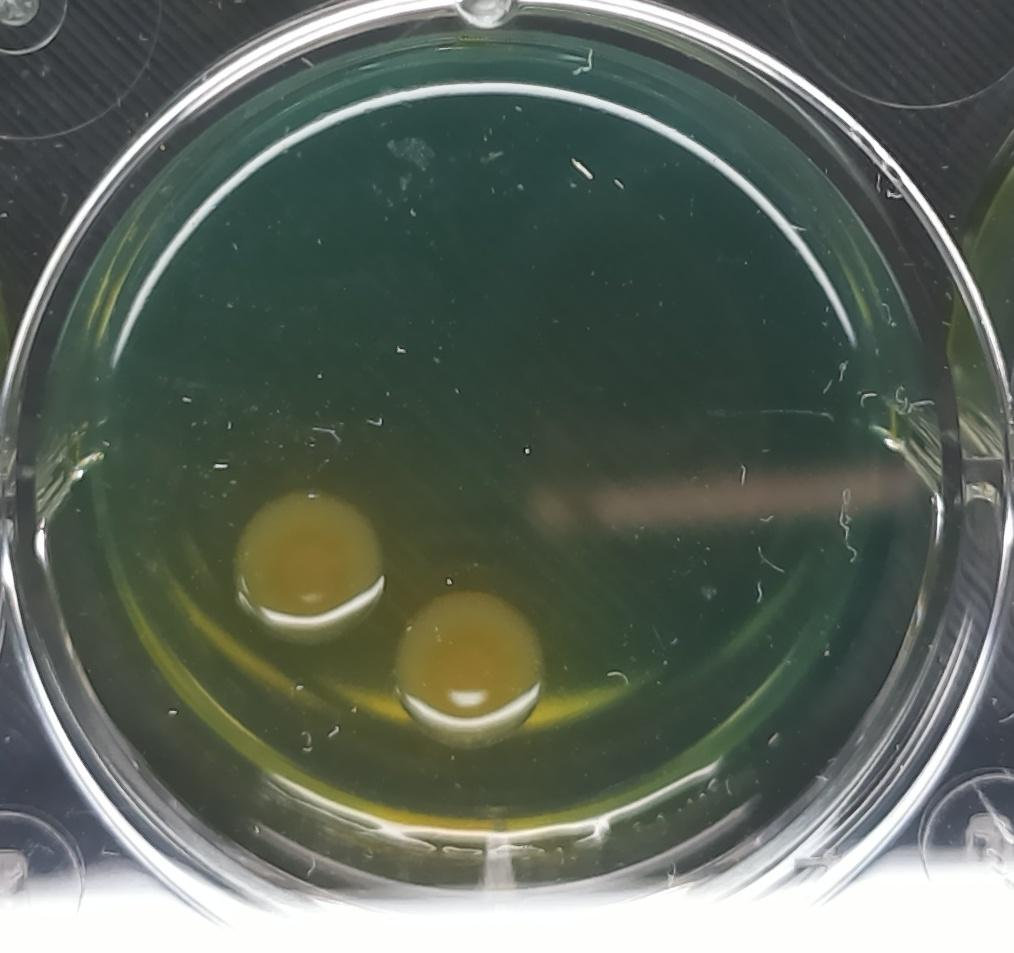vangil: (206, 466, 386, 654), (391, 576, 549, 764)
